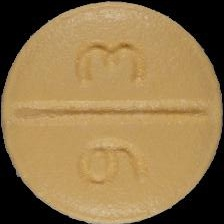0093-7206: (0, 0, 224, 224)
